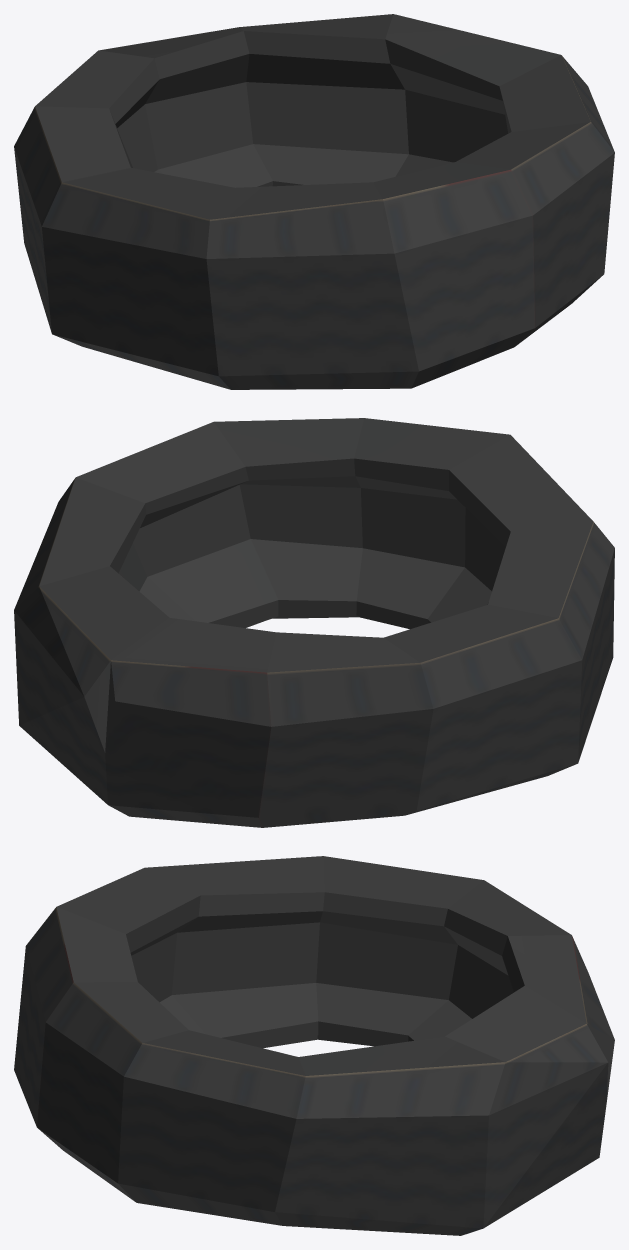
Rendered from SM_Prop_Tyre_03.obj.
3 views of the same model, one above another, from view 1: azimuth 30°, elevation 25°; view 2: azimuth 150°, elevation 25°; view 3: azimuth 270°, elevation 25° (orthographic). The views are drawn at different scales.
Parts seen in each view (by area): view 1: SM_Prop_Tyre_03_0; view 2: SM_Prop_Tyre_03_0; view 3: SM_Prop_Tyre_03_0.
Boxes of the visible parts, box(x1,y1,x2,y2) form: SM_Prop_Tyre_03_0: box(14, 14, 614, 389); SM_Prop_Tyre_03_0: box(14, 418, 614, 827); SM_Prop_Tyre_03_0: box(14, 856, 614, 1235).
Size of the model in its own units: 0.7178 by 0.2804 by 0.7153.
Materials: 1 (1 with a texture image).
